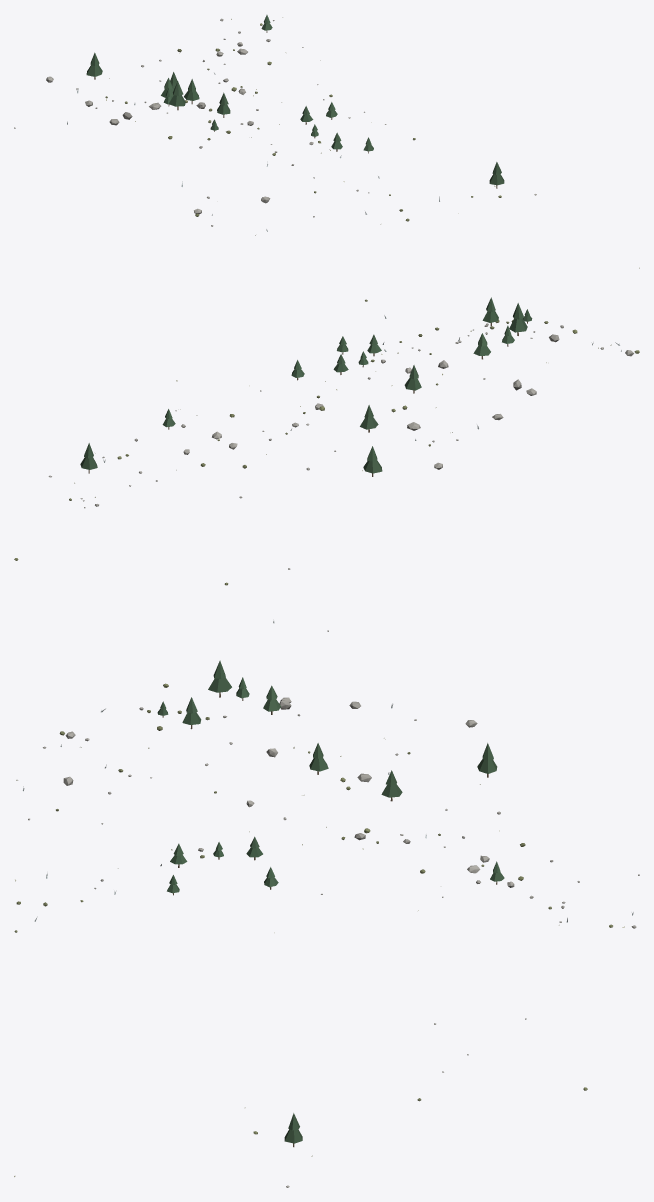
The model's file is coast_land_scatter_c11_15_lod1.glb.
The picture shows the model from 3 angles, top to bottom: view 1: azimuth 30°, elevation 25°; view 2: azimuth 150°, elevation 25°; view 3: azimuth 270°, elevation 25°; orthographic projection. The views are drawn at different scales.
Parts seen in each view (by area): view 1: coast_land_scatter_c11_15_lod1; view 2: coast_land_scatter_c11_15_lod1; view 3: coast_land_scatter_c11_15_lod1.
Boxes of the visible parts, x1,y1,x2,y2 form: coast_land_scatter_c11_15_lod1: [14, 15, 639, 268]; coast_land_scatter_c11_15_lod1: [14, 297, 639, 631]; coast_land_scatter_c11_15_lod1: [14, 660, 639, 1187].
Bounding box in the file's own units: 230 × 116 × 228.
